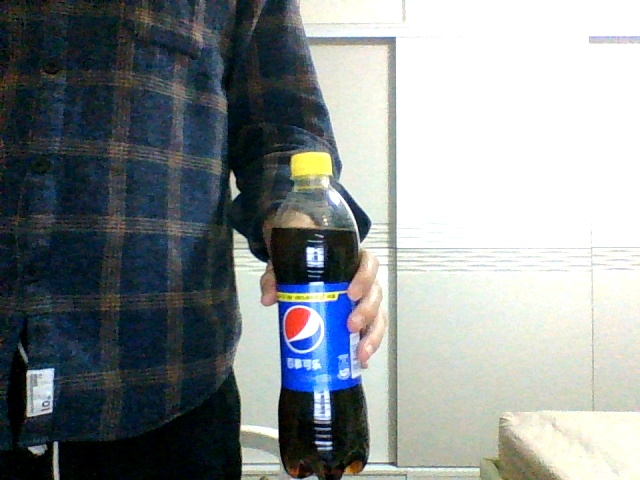Cola: (272, 153, 369, 476)
